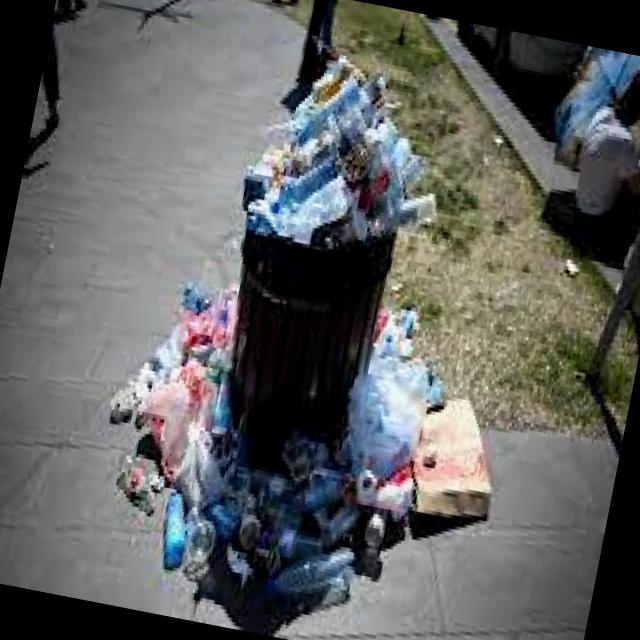garbage: (66, 259, 524, 640), (218, 44, 461, 302)
